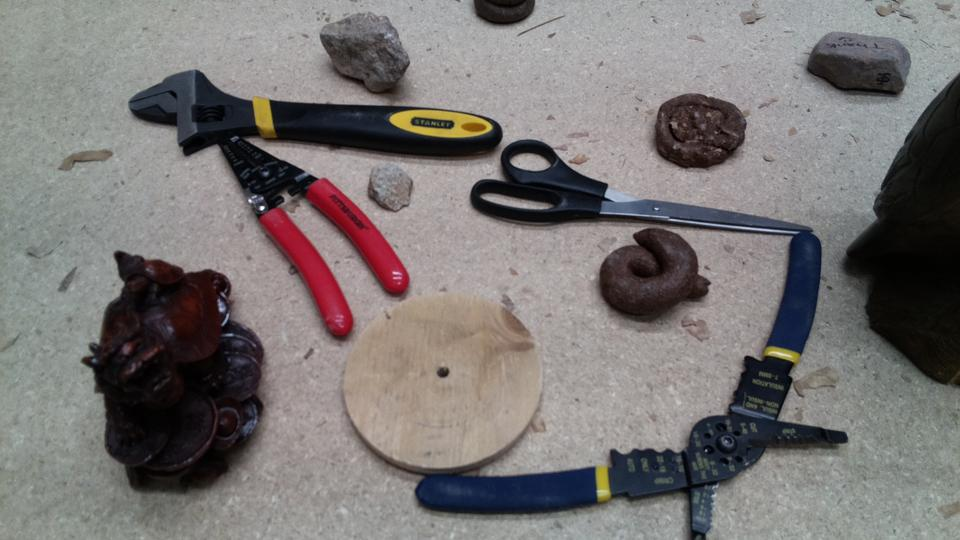poop: (594, 225, 711, 323), (650, 90, 748, 174), (470, 1, 536, 27)
